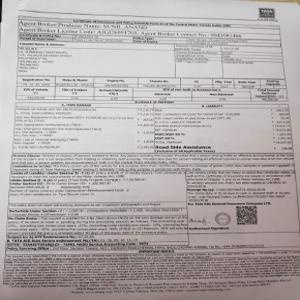image: (254, 5, 279, 23)
table: (17, 14, 289, 102), (10, 102, 293, 154)
text: (8, 157, 295, 202)
